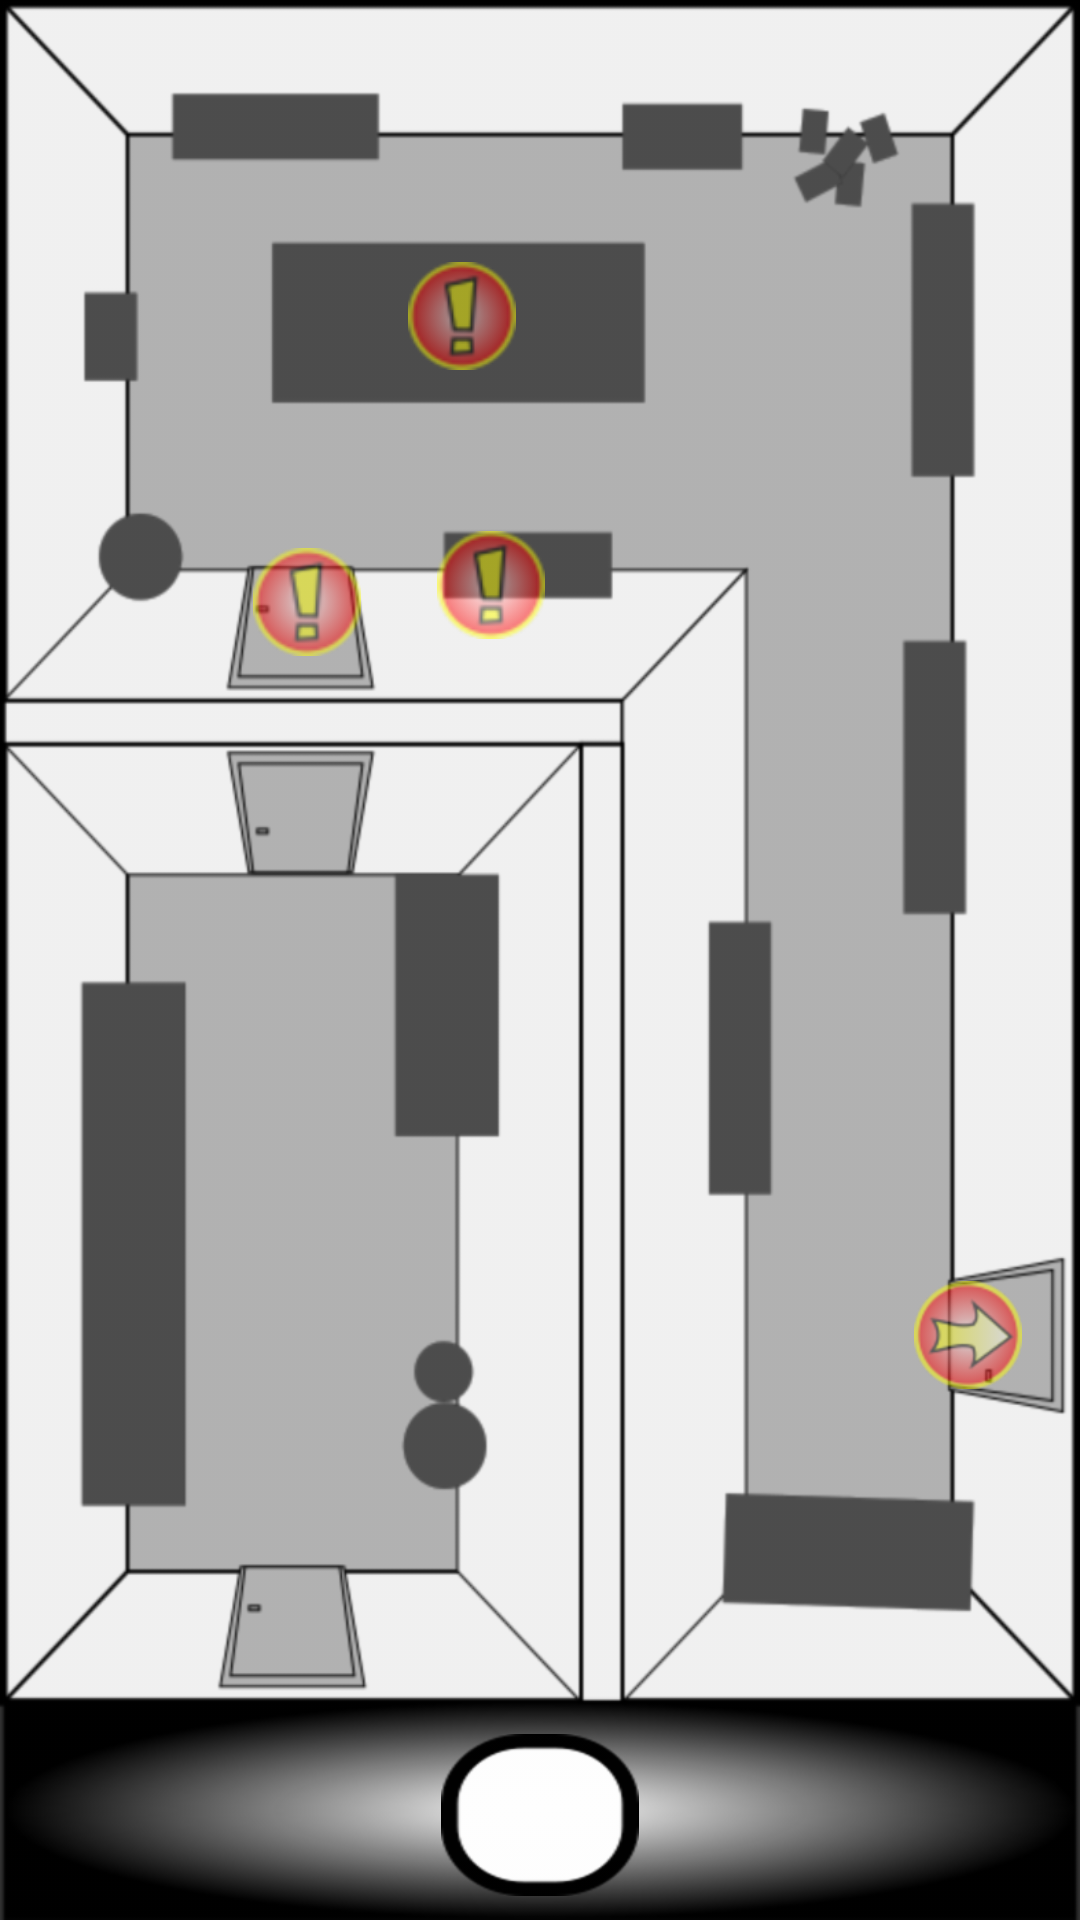

Named icons in this screenshot (1080*1920) and their centers, (x,y):
arrow: (968,1335)
